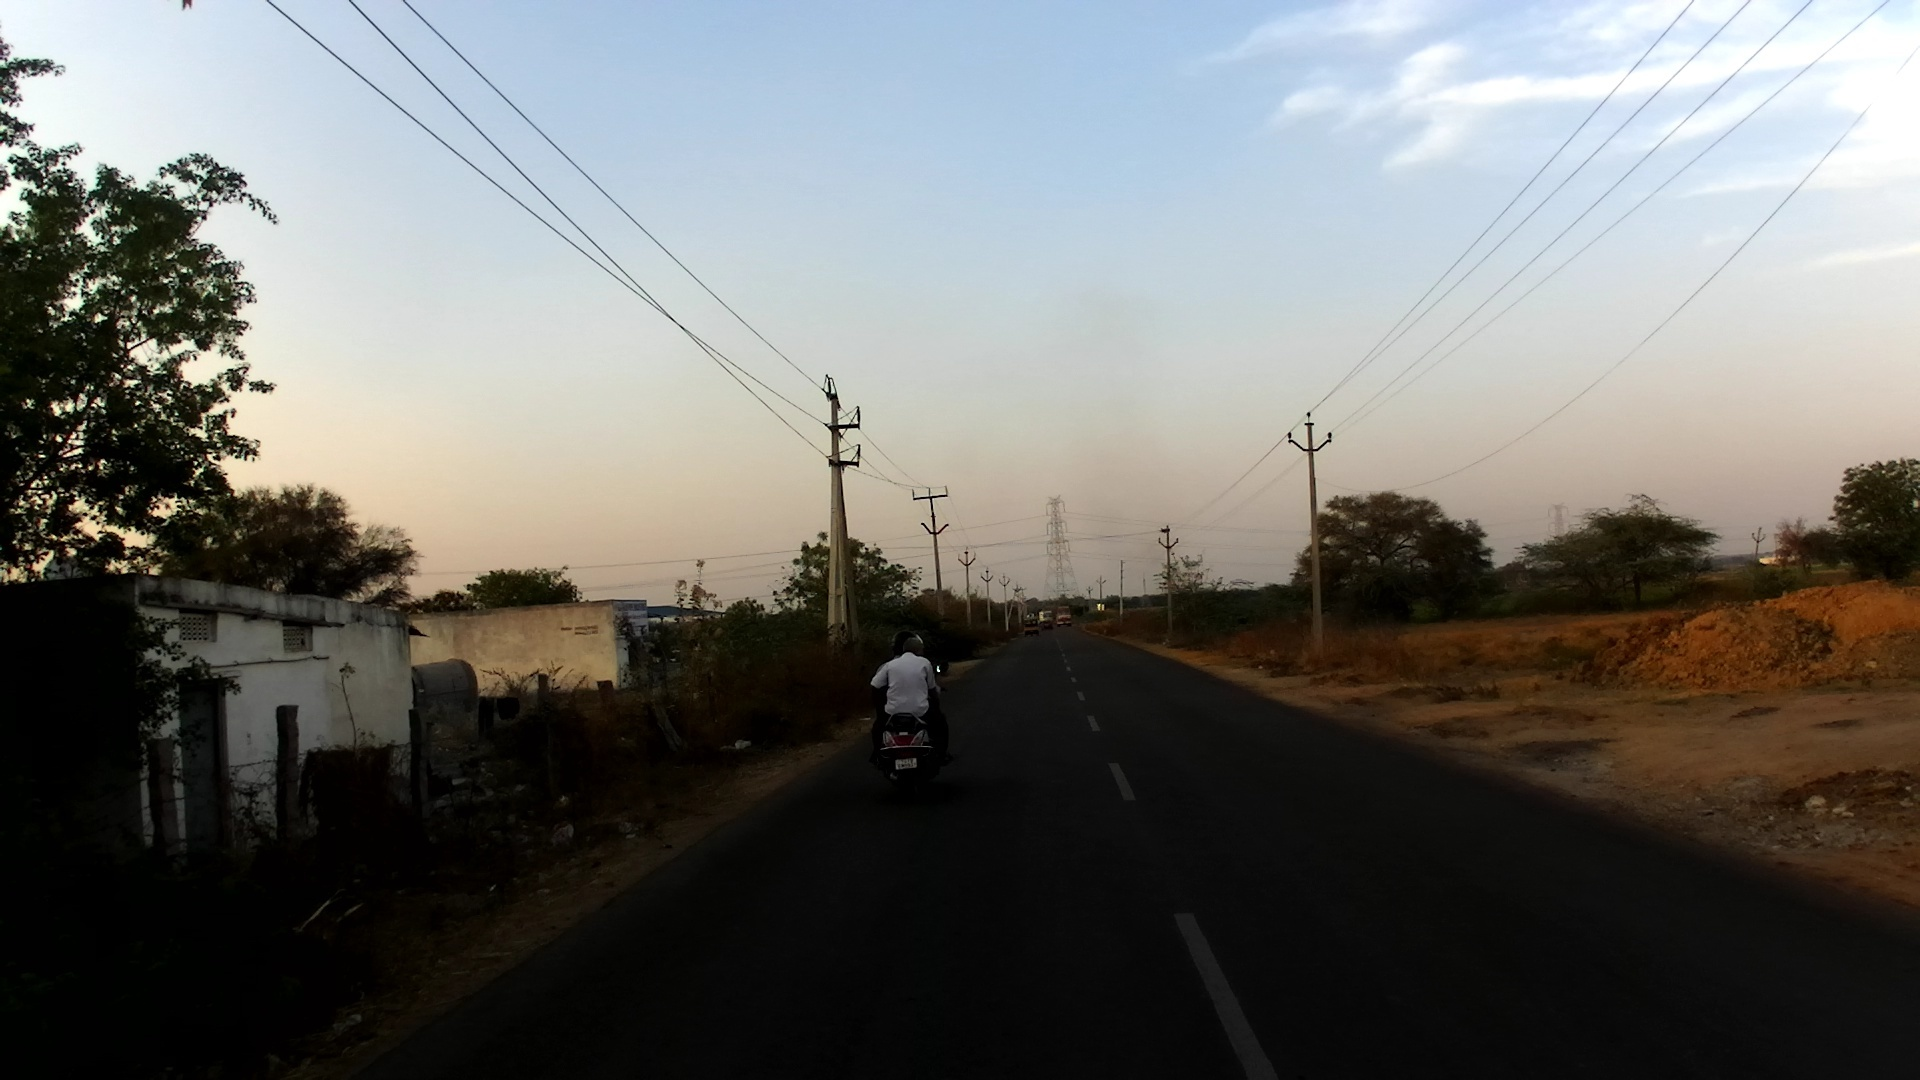bus: (1051, 604, 1073, 626)
car: (1020, 614, 1039, 637)
motorcycle: (868, 659, 960, 799)
rider: (868, 637, 962, 770), (873, 629, 944, 728)
truck: (1035, 611, 1054, 629)
